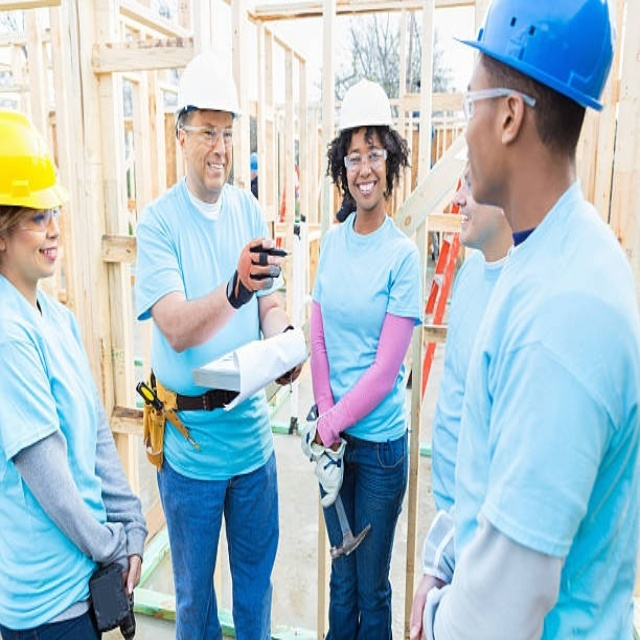Gafas: (464, 83, 535, 116), (182, 122, 235, 147), (9, 207, 62, 231), (344, 146, 390, 166)
Guantes: (226, 235, 294, 314), (298, 419, 350, 504)
Sin_guantes: (407, 577, 445, 638), (123, 554, 146, 601)
Sin_mascara: (463, 129, 505, 198), (33, 234, 62, 275), (202, 157, 232, 195), (457, 202, 483, 243), (352, 176, 385, 207)
